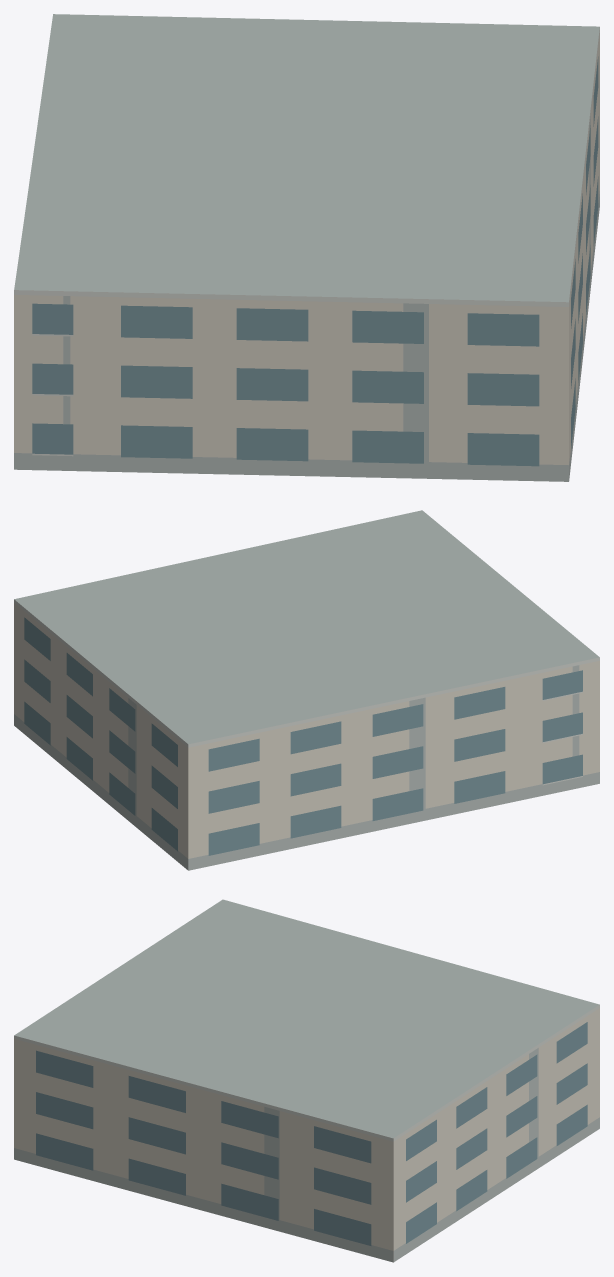
The model's file is survey-upis-32748371.glb.
3 renders of one model, top to bottom at view 1: azimuth 30°, elevation 25°; view 2: azimuth 150°, elevation 25°; view 3: azimuth 270°, elevation 25°, orthographic. The views are drawn at different scales.
Parts seen in each view (by area): view 1: survey-upis-32748371.tmp; view 2: survey-upis-32748371.tmp; view 3: survey-upis-32748371.tmp.
Boxes of the visible parts, bbox=[...] form: survey-upis-32748371.tmp: bbox=[14, 14, 599, 481]; survey-upis-32748371.tmp: bbox=[14, 510, 599, 870]; survey-upis-32748371.tmp: bbox=[14, 899, 599, 1262].
Bounding box in the file's own units: 37.81 × 9.15 × 39.17.
